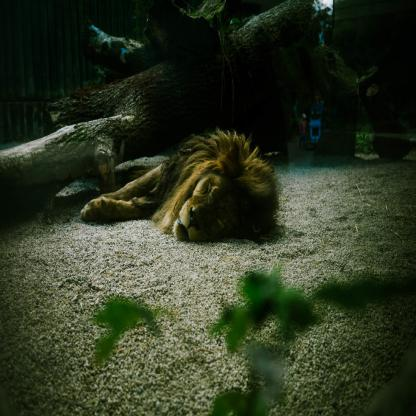lion: (167, 140, 277, 247)
